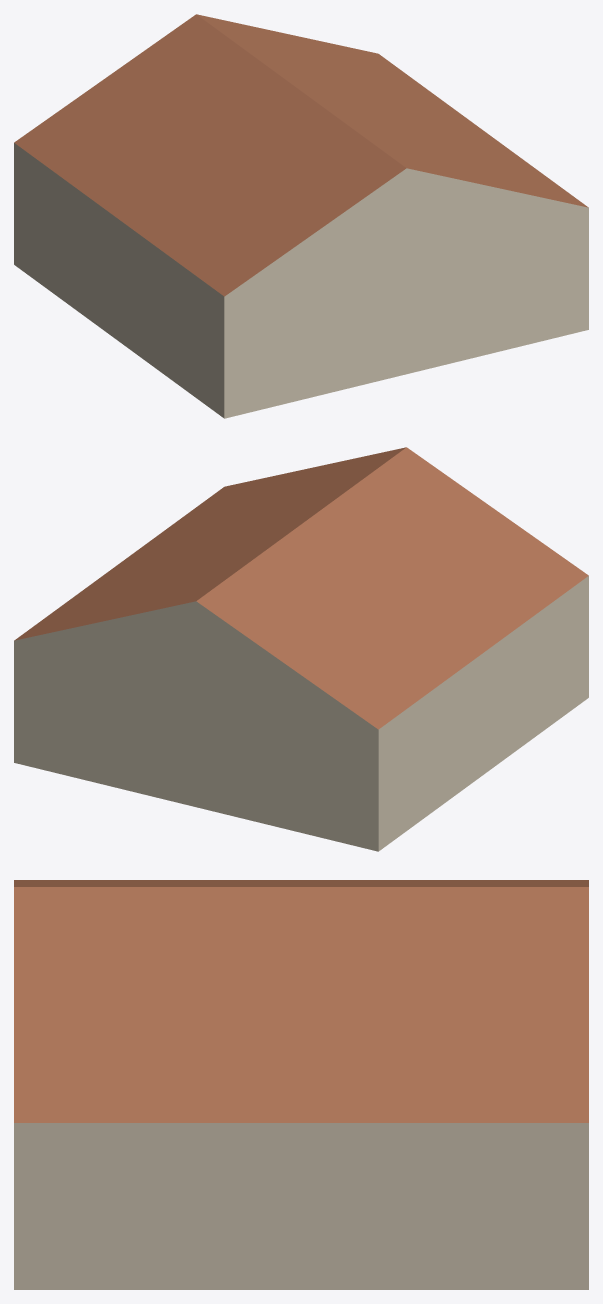
Rendered from casa_longe_1.glb.
3 views of the same model, one above another, from view 1: azimuth 30°, elevation 25°; view 2: azimuth 150°, elevation 25°; view 3: azimuth 270°, elevation 25° (orthographic). The views are drawn at different scales.
Visible parts, largest first — view 1: w, t; view 2: w, t; view 3: t, w.
Part boxes in pixels (x1=…): w: x1=14, y1=143, x2=588, y2=418; t: x1=14, y1=14, x2=588, y2=296; w: x1=14, y1=576, x2=588, y2=851; t: x1=14, y1=447, x2=588, y2=729; t: x1=14, y1=880, x2=588, y2=1122; w: x1=14, y1=1123, x2=588, y2=1289.
Size of the model in its own units: 10 by 5.4 by 10.
